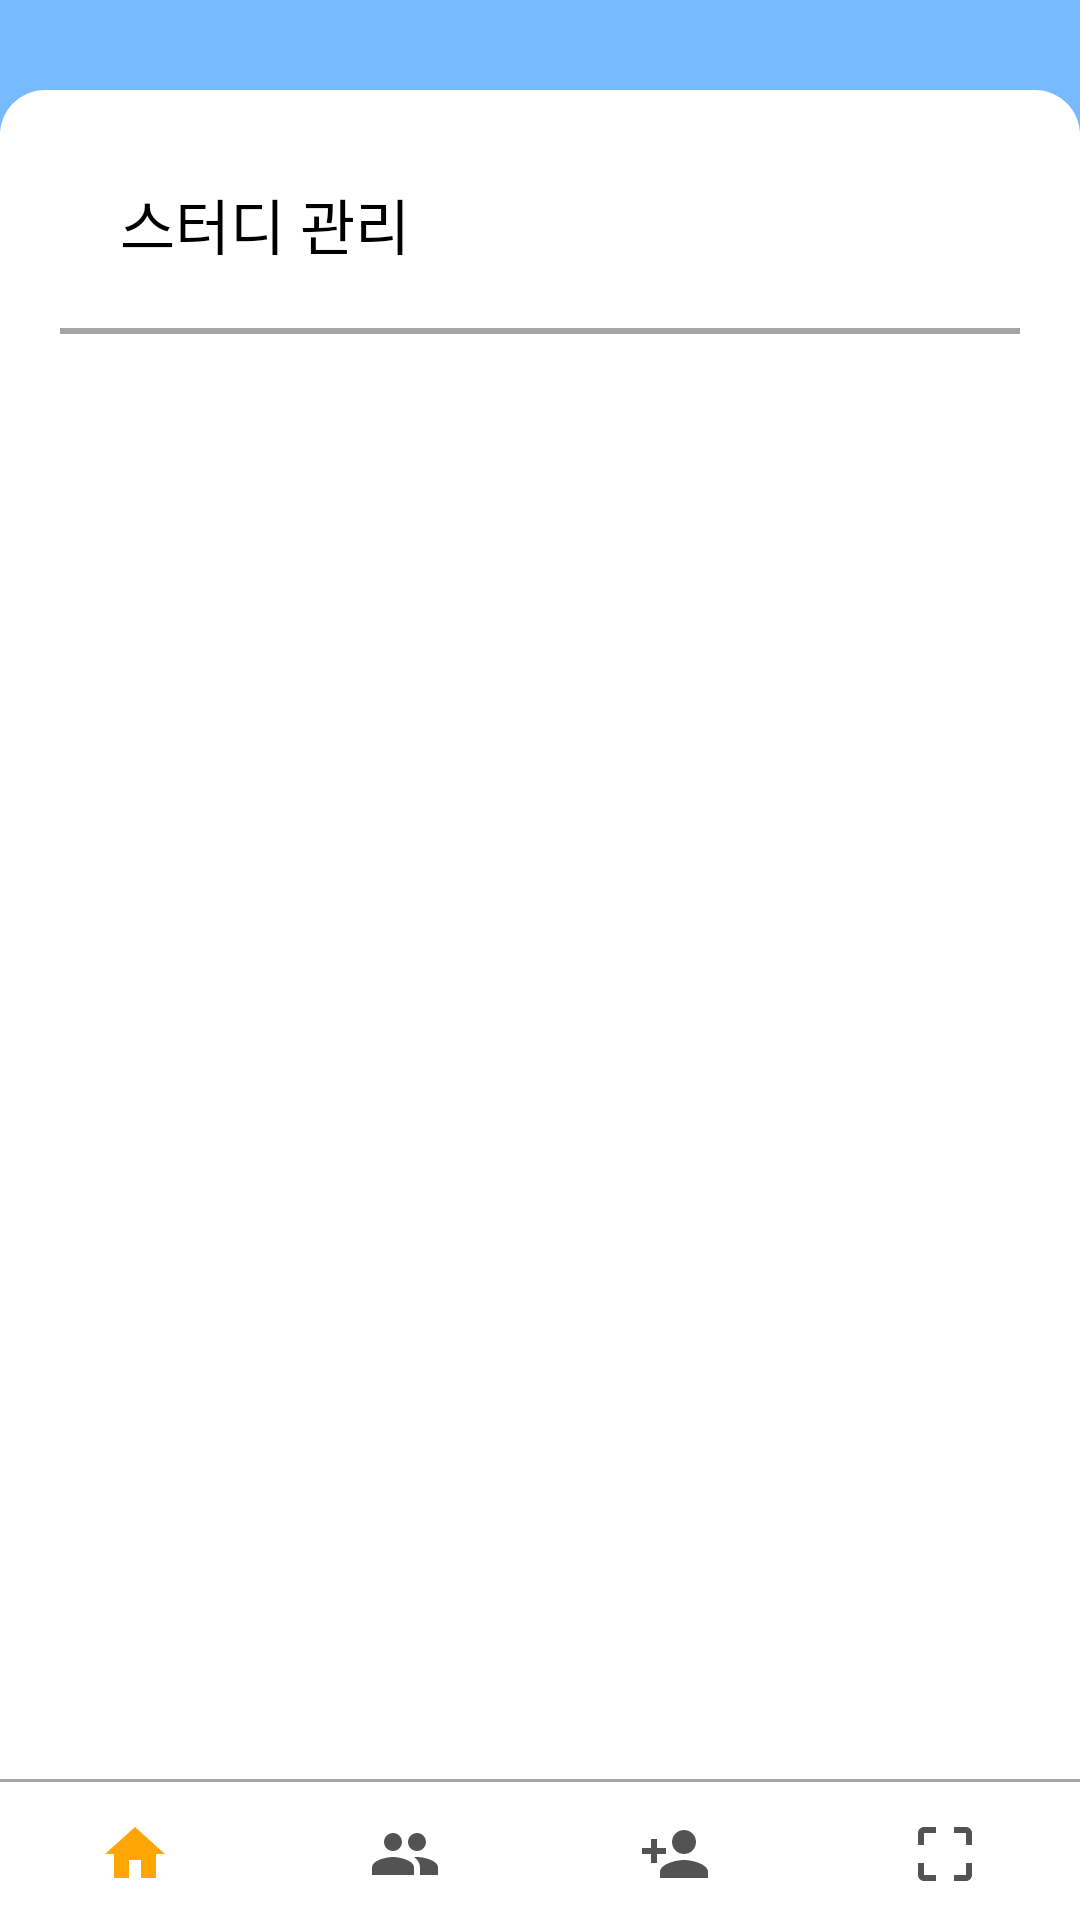

Where to tap for icons on this 1080px×1920px app screen, as (x,y):
crop free none: (945,1854)
group none: (405,1854)
home: (135,1852)
person add none: (675,1854)
